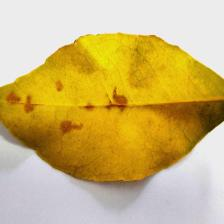black spot: (0, 65, 143, 143)
